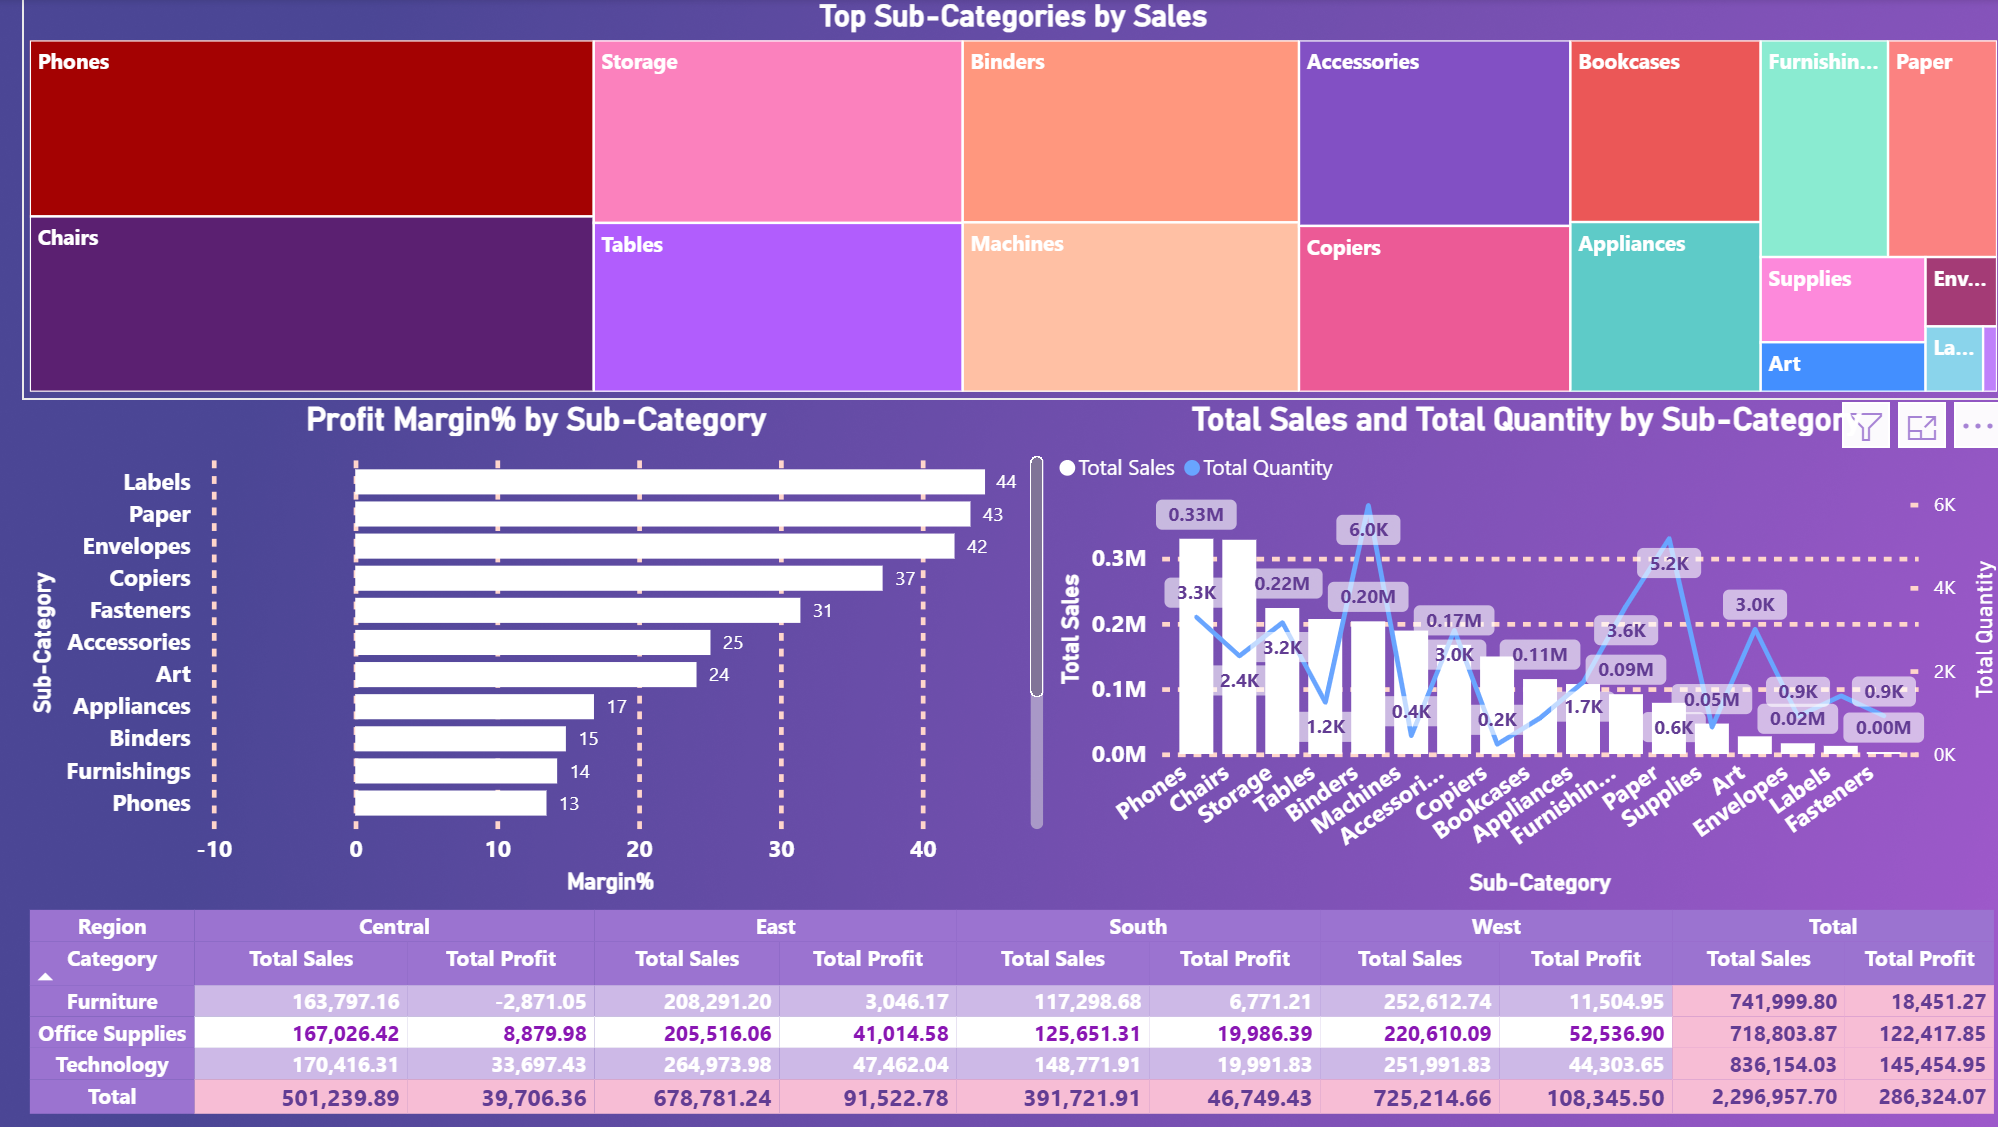

The page's visual inventory and layout, read from the dashboard file:
{"tool":"powerbi","page":{"name":"Products Analysis","canvas":[1280,720],"ordinal":2},"visuals":[{"type":"treemap","title":"Top Sub-Categories by Sales","fields":{"Group":["SampleSuperstore.Sub-Category"],"Values":["SampleSuperstore.Total Sales"]},"box":[16,0,1264,256],"z":0},{"type":"clusteredBarChart","title":"Profit Margin% by Sub-Category","fields":{"Category":["SampleSuperstore.Sub-Category"],"Y":["SampleSuperstore.Margin%"]},"box":[16,256,656,320],"z":1000},{"type":"lineClusteredColumnComboChart","fields":{"Category":["SampleSuperstore.Sub-Category"],"Y":["SampleSuperstore.Total Sales"],"Y2":["SampleSuperstore.Total Quantity"]},"box":[672,256,608,320],"z":2000},{"type":"pivotTable","title":"Sales & Profit by Category and Region","fields":{"Rows":["SampleSuperstore.Category"],"Columns":["SampleSuperstore.Region"],"Values":["SampleSuperstore.Total Sales","SampleSuperstore.Total Profit"]},"box":[16,576,1264,144],"z":3000}]}

Visuals, with their boxes in screenshot pixels (x1, y1, x2, y2), scaled from the page's 1280x720 canvas onto the 1998x1127 screenshot:
"Top Sub-Categories by Sales" treemap: <box>25,0,1997,401</box>
"Profit Margin% by Sub-Category" clusteredBarChart: <box>25,401,1049,902</box>
lineClusteredColumnComboChart - SampleSuperstore.Sub-Category x SampleSuperstore.Total Sales: <box>1049,401,1997,902</box>
"Sales & Profit by Category and Region" pivotTable: <box>25,902,1997,1126</box>
